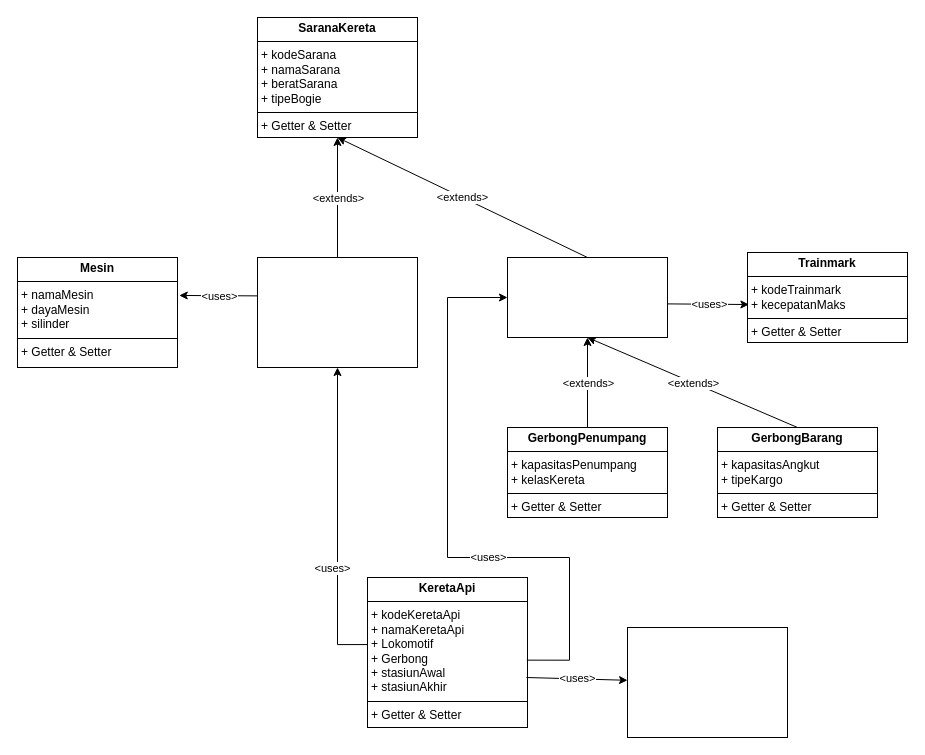
Image size: 925x755. Some labels were removed from this diagram. The centre of each missing label's shape, as x and y in pixels:
Gerbong + trainmark + Getter & Setter: point 587,297
Lokomotif + jenisMesin + konfigurasiGandar + jenisMotorTraksi + Getter & Setter: point 337,312
Stasiun + kodeStasiun + namaStasiun + jenisStasiun + Getter & Setter: point 707,682
